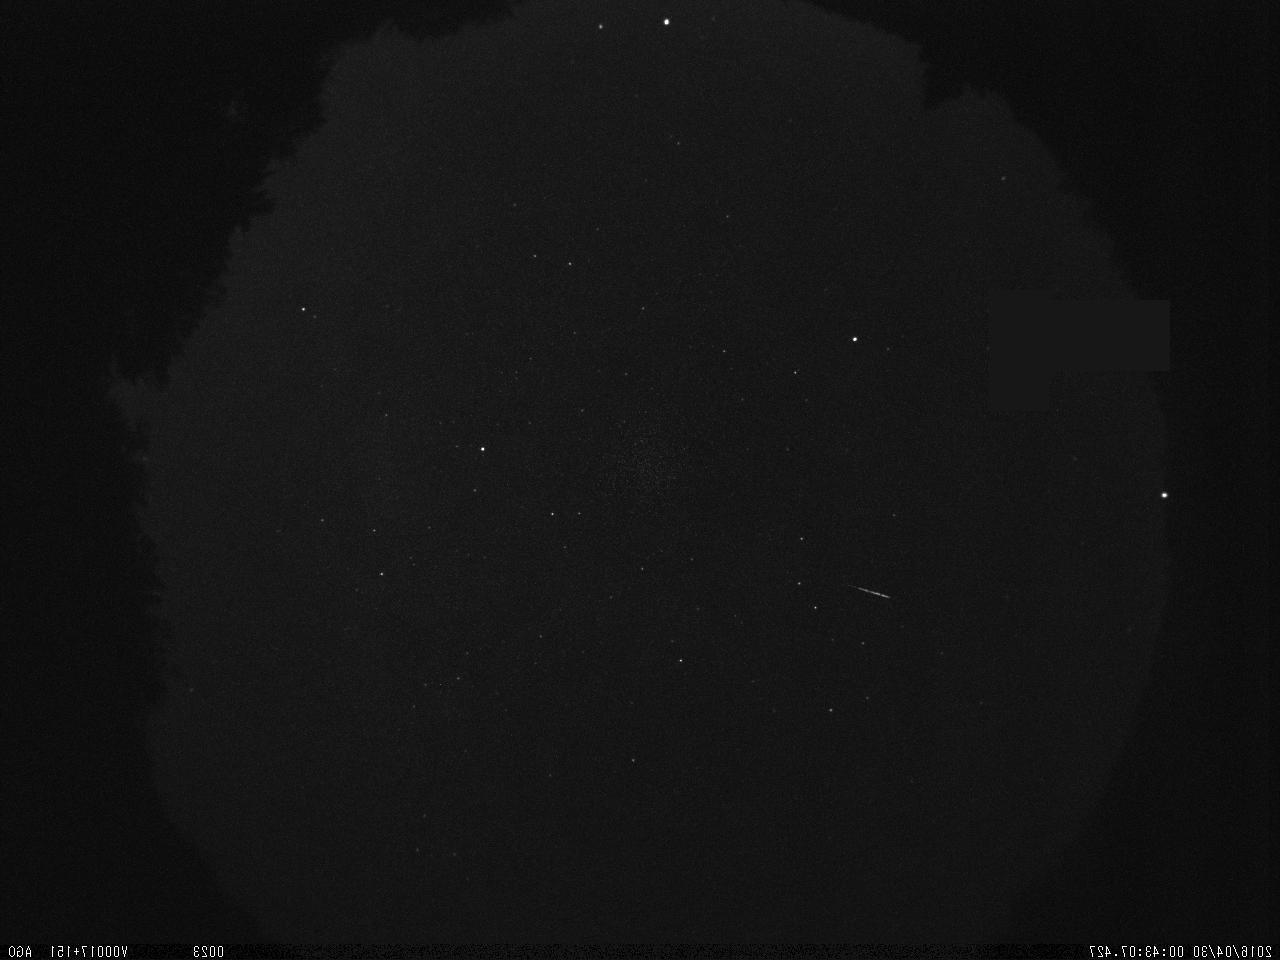meteor: (826, 577, 904, 611)
